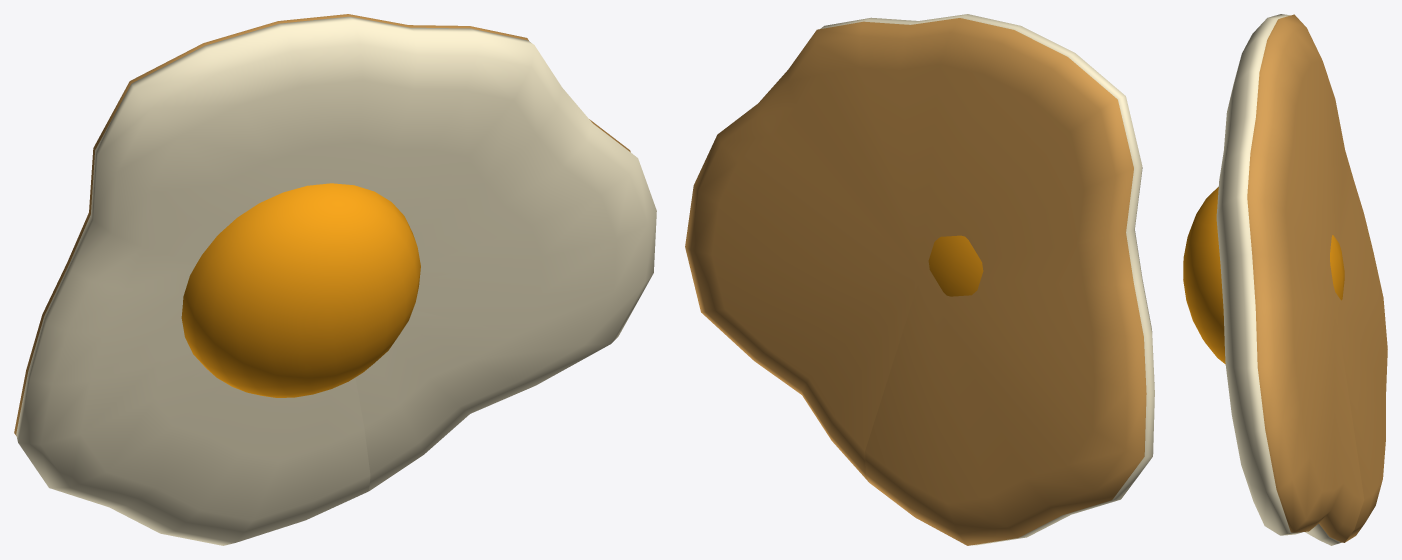
The model's file is friedegg.glb.
3 renders of one model, left to right at view 1: azimuth 30°, elevation 25°; view 2: azimuth 150°, elevation 25°; view 3: azimuth 270°, elevation 25°, orthographic. The views are drawn at different scales.
Parts seen in each view (by area): view 1: friedegg; view 2: friedegg; view 3: friedegg.
Part boxes in pixels (x1,y1,x2,y2): friedegg: (14, 14, 656, 545); friedegg: (685, 14, 1154, 545); friedegg: (1183, 14, 1387, 545).
Size of the model in its own units: 0.9348 by 0.8541 by 0.327.
